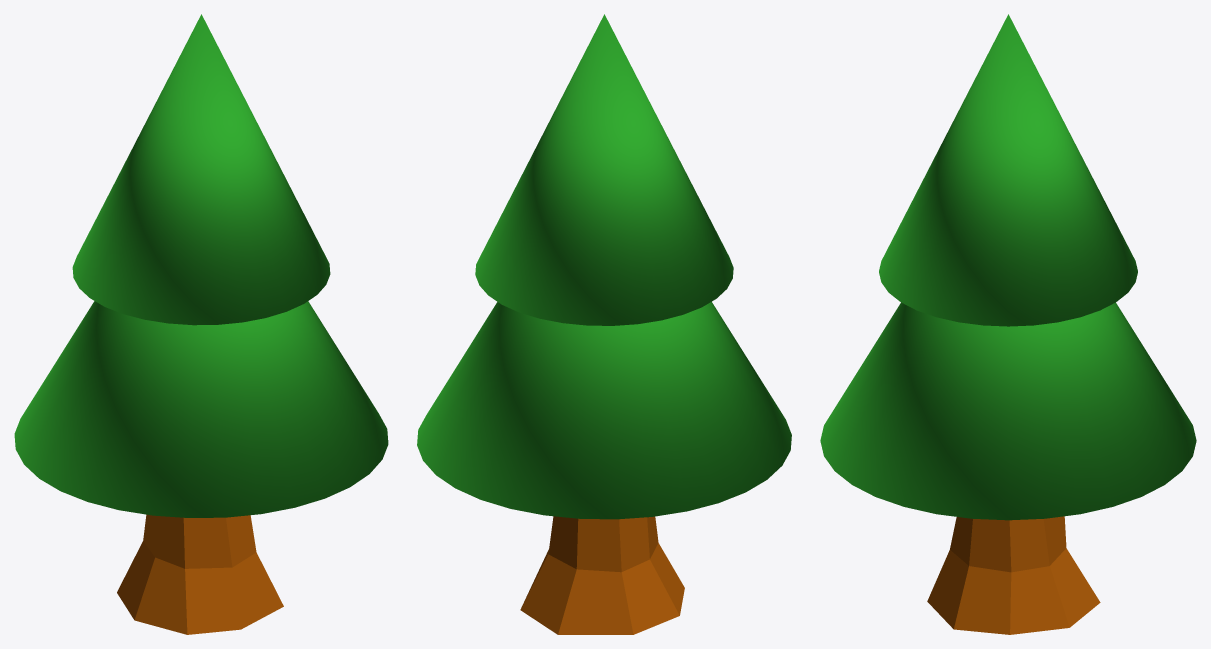
File: Tree_Cone3.fbx
The picture shows the model from 3 angles, left to right: view 1: azimuth 30°, elevation 25°; view 2: azimuth 150°, elevation 25°; view 3: azimuth 270°, elevation 25°; orthographic projection.
Visible parts, largest first — view 1: Tree_Cone3; view 2: Tree_Cone3; view 3: Tree_Cone3.
Boxes of the visible parts, left/top/right/bottom form: Tree_Cone3: left=14, top=14, right=388, bottom=634; Tree_Cone3: left=417, top=14, right=791, bottom=634; Tree_Cone3: left=820, top=14, right=1196, bottom=634.
Size of the model in its own units: 3.45 by 3.45 by 5.95.
